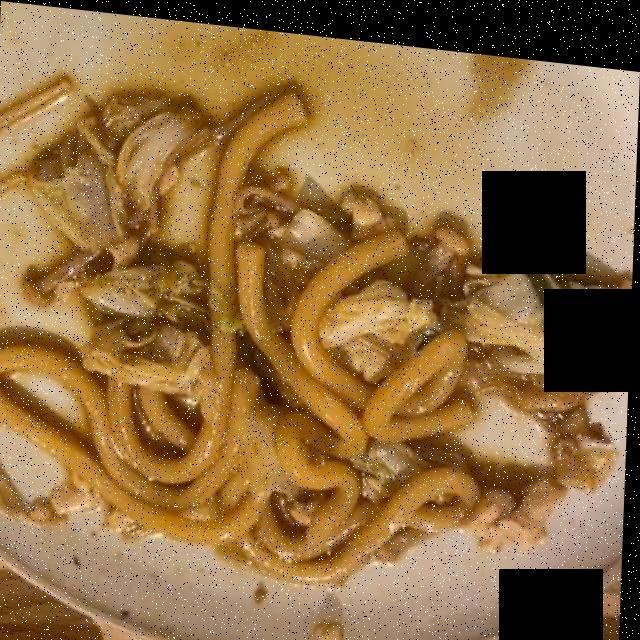cabbage: (31, 61, 617, 366)
mushrooms: (396, 218, 474, 295)
pasta: (0, 53, 482, 564)
